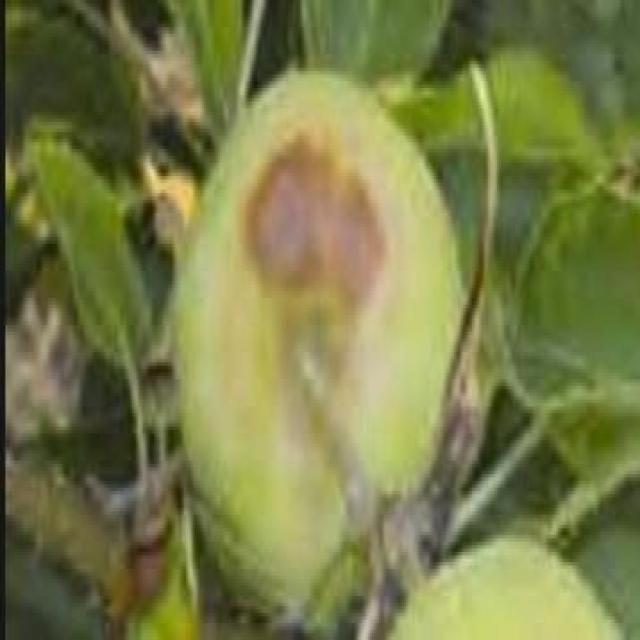Sunscald Fruit: (155, 85, 268, 243)
